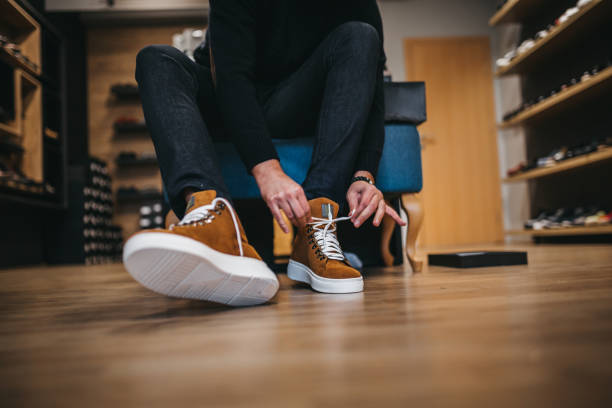Footwear: (281, 193, 370, 307)
